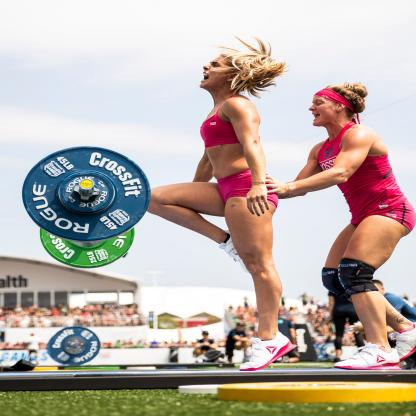barbell: (22, 147, 153, 242)
